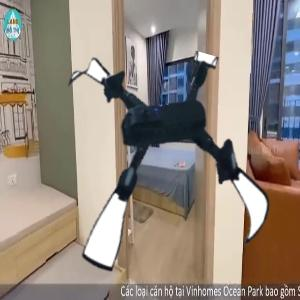drone: (44, 47, 282, 285)
